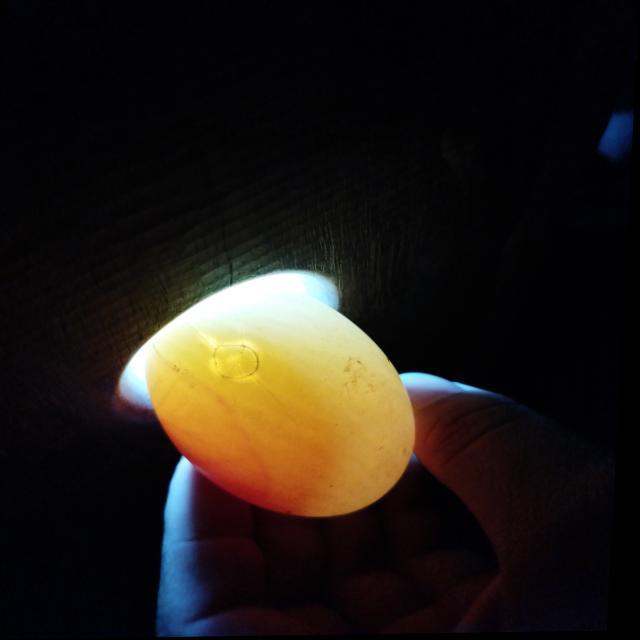Gema Quebrada: (163, 418, 313, 517)
Rachadura: (217, 346, 263, 381)
